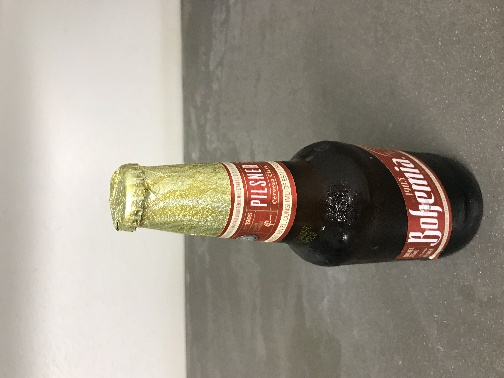BPB: (277, 112, 327, 185)
